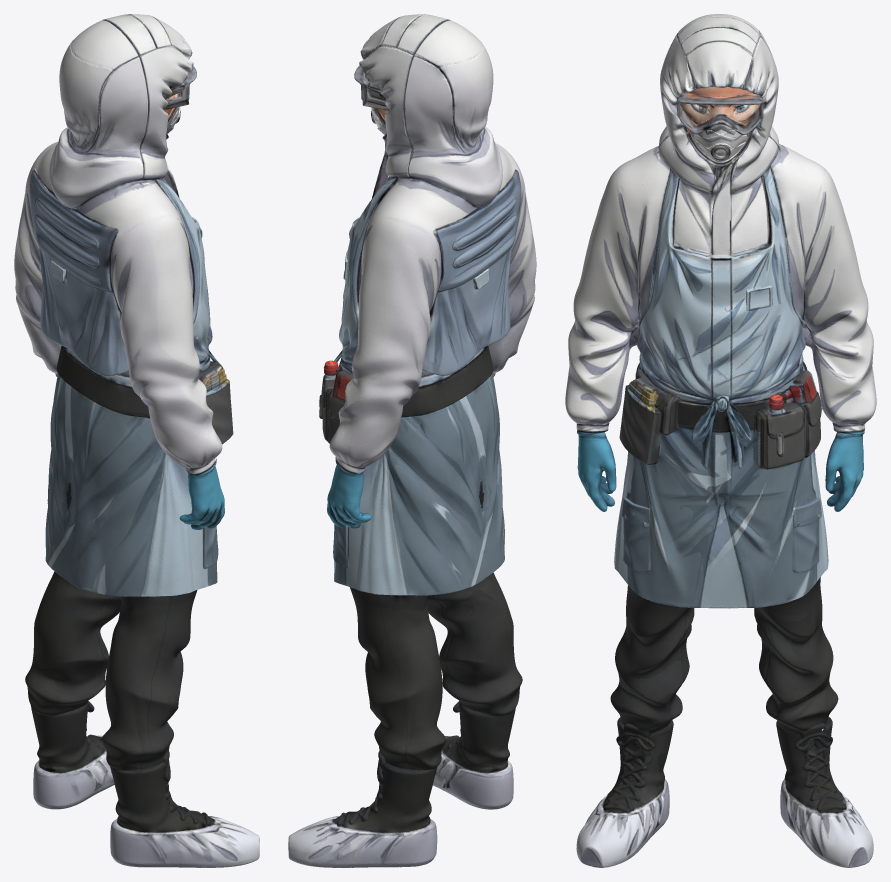
File: hazmat+worker+3d+model.glb
3 views of the same model, side by side, from view 1: azimuth 30°, elevation 25°; view 2: azimuth 150°, elevation 25°; view 3: azimuth 270°, elevation 25° (orthographic).
Visible parts, largest first — view 1: tripo_node_187dfb94-2651-49d8-af1e-44b54278c903; view 2: tripo_node_187dfb94-2651-49d8-af1e-44b54278c903; view 3: tripo_node_187dfb94-2651-49d8-af1e-44b54278c903.
Boxes of the visible parts, x1,y1,x2,y2 form: tripo_node_187dfb94-2651-49d8-af1e-44b54278c903: (14,14,259,867); tripo_node_187dfb94-2651-49d8-af1e-44b54278c903: (288,14,536,867); tripo_node_187dfb94-2651-49d8-af1e-44b54278c903: (565,14,876,867).
Bounding box in the file's own units: 0.2051 × 0.9999 × 0.3472.
1 material, 1 textured.
